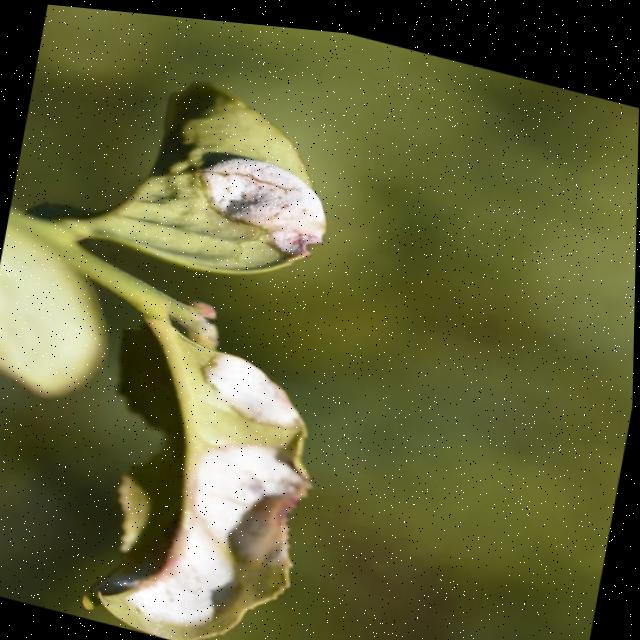Tea cake: (189, 426, 340, 574), (201, 150, 331, 261), (137, 516, 251, 640), (196, 331, 319, 434)
